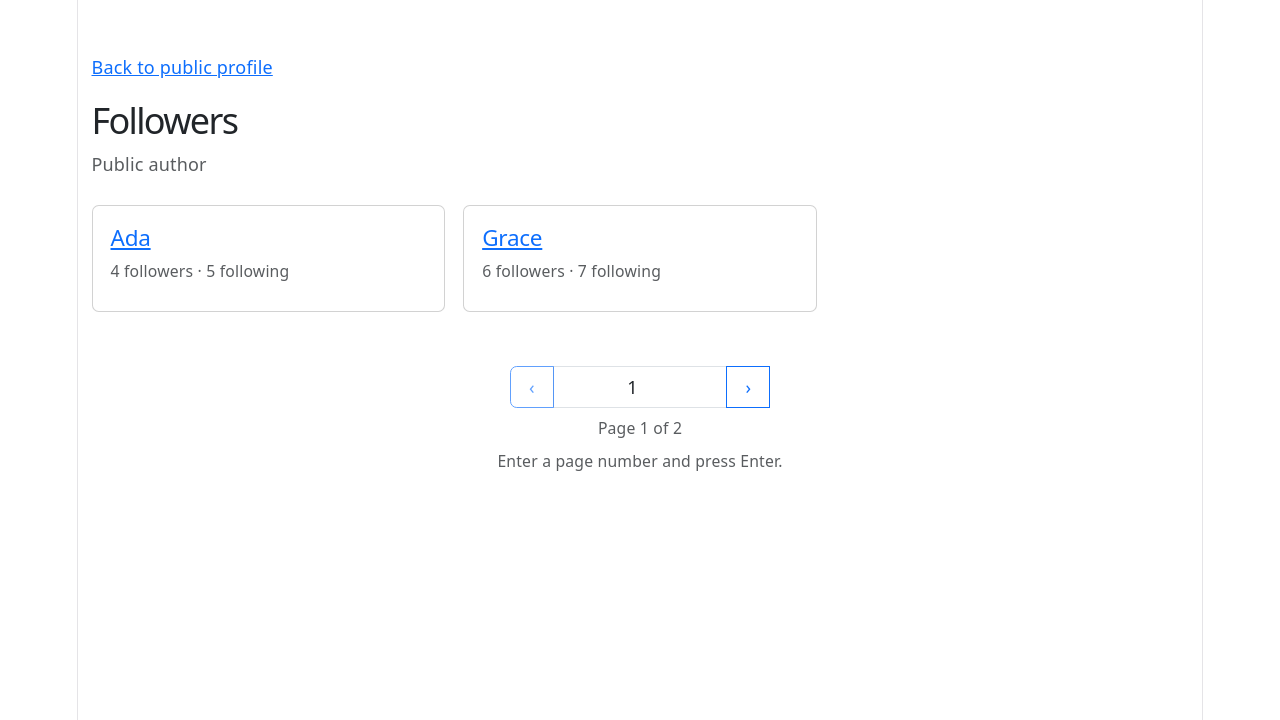
Test: shows follower cards with profile links and paginates
Expected: the heading "Followers" is shown, [92,96,237,145]
Expected: the text "Public author" is shown, [92,152,207,176]
Click the button named "Next" at coordinates (748, 387), box [726,366,770,408]
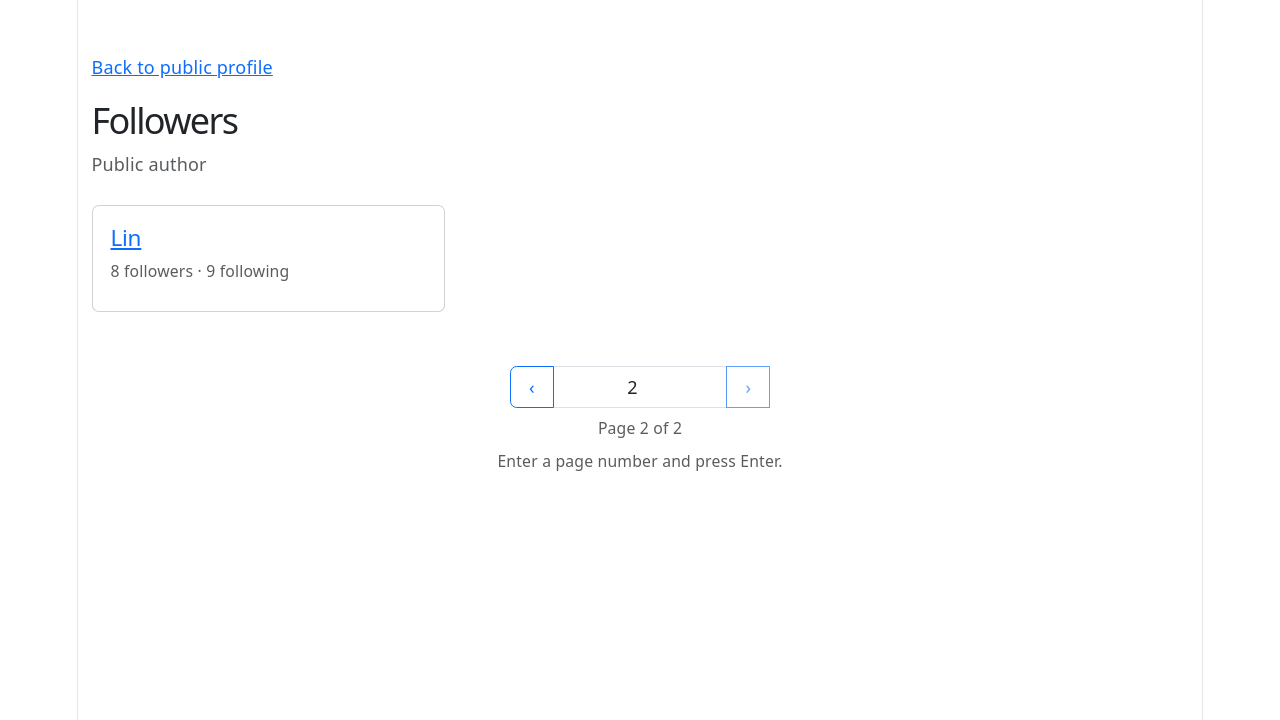
Now the link "Ada" is gone
